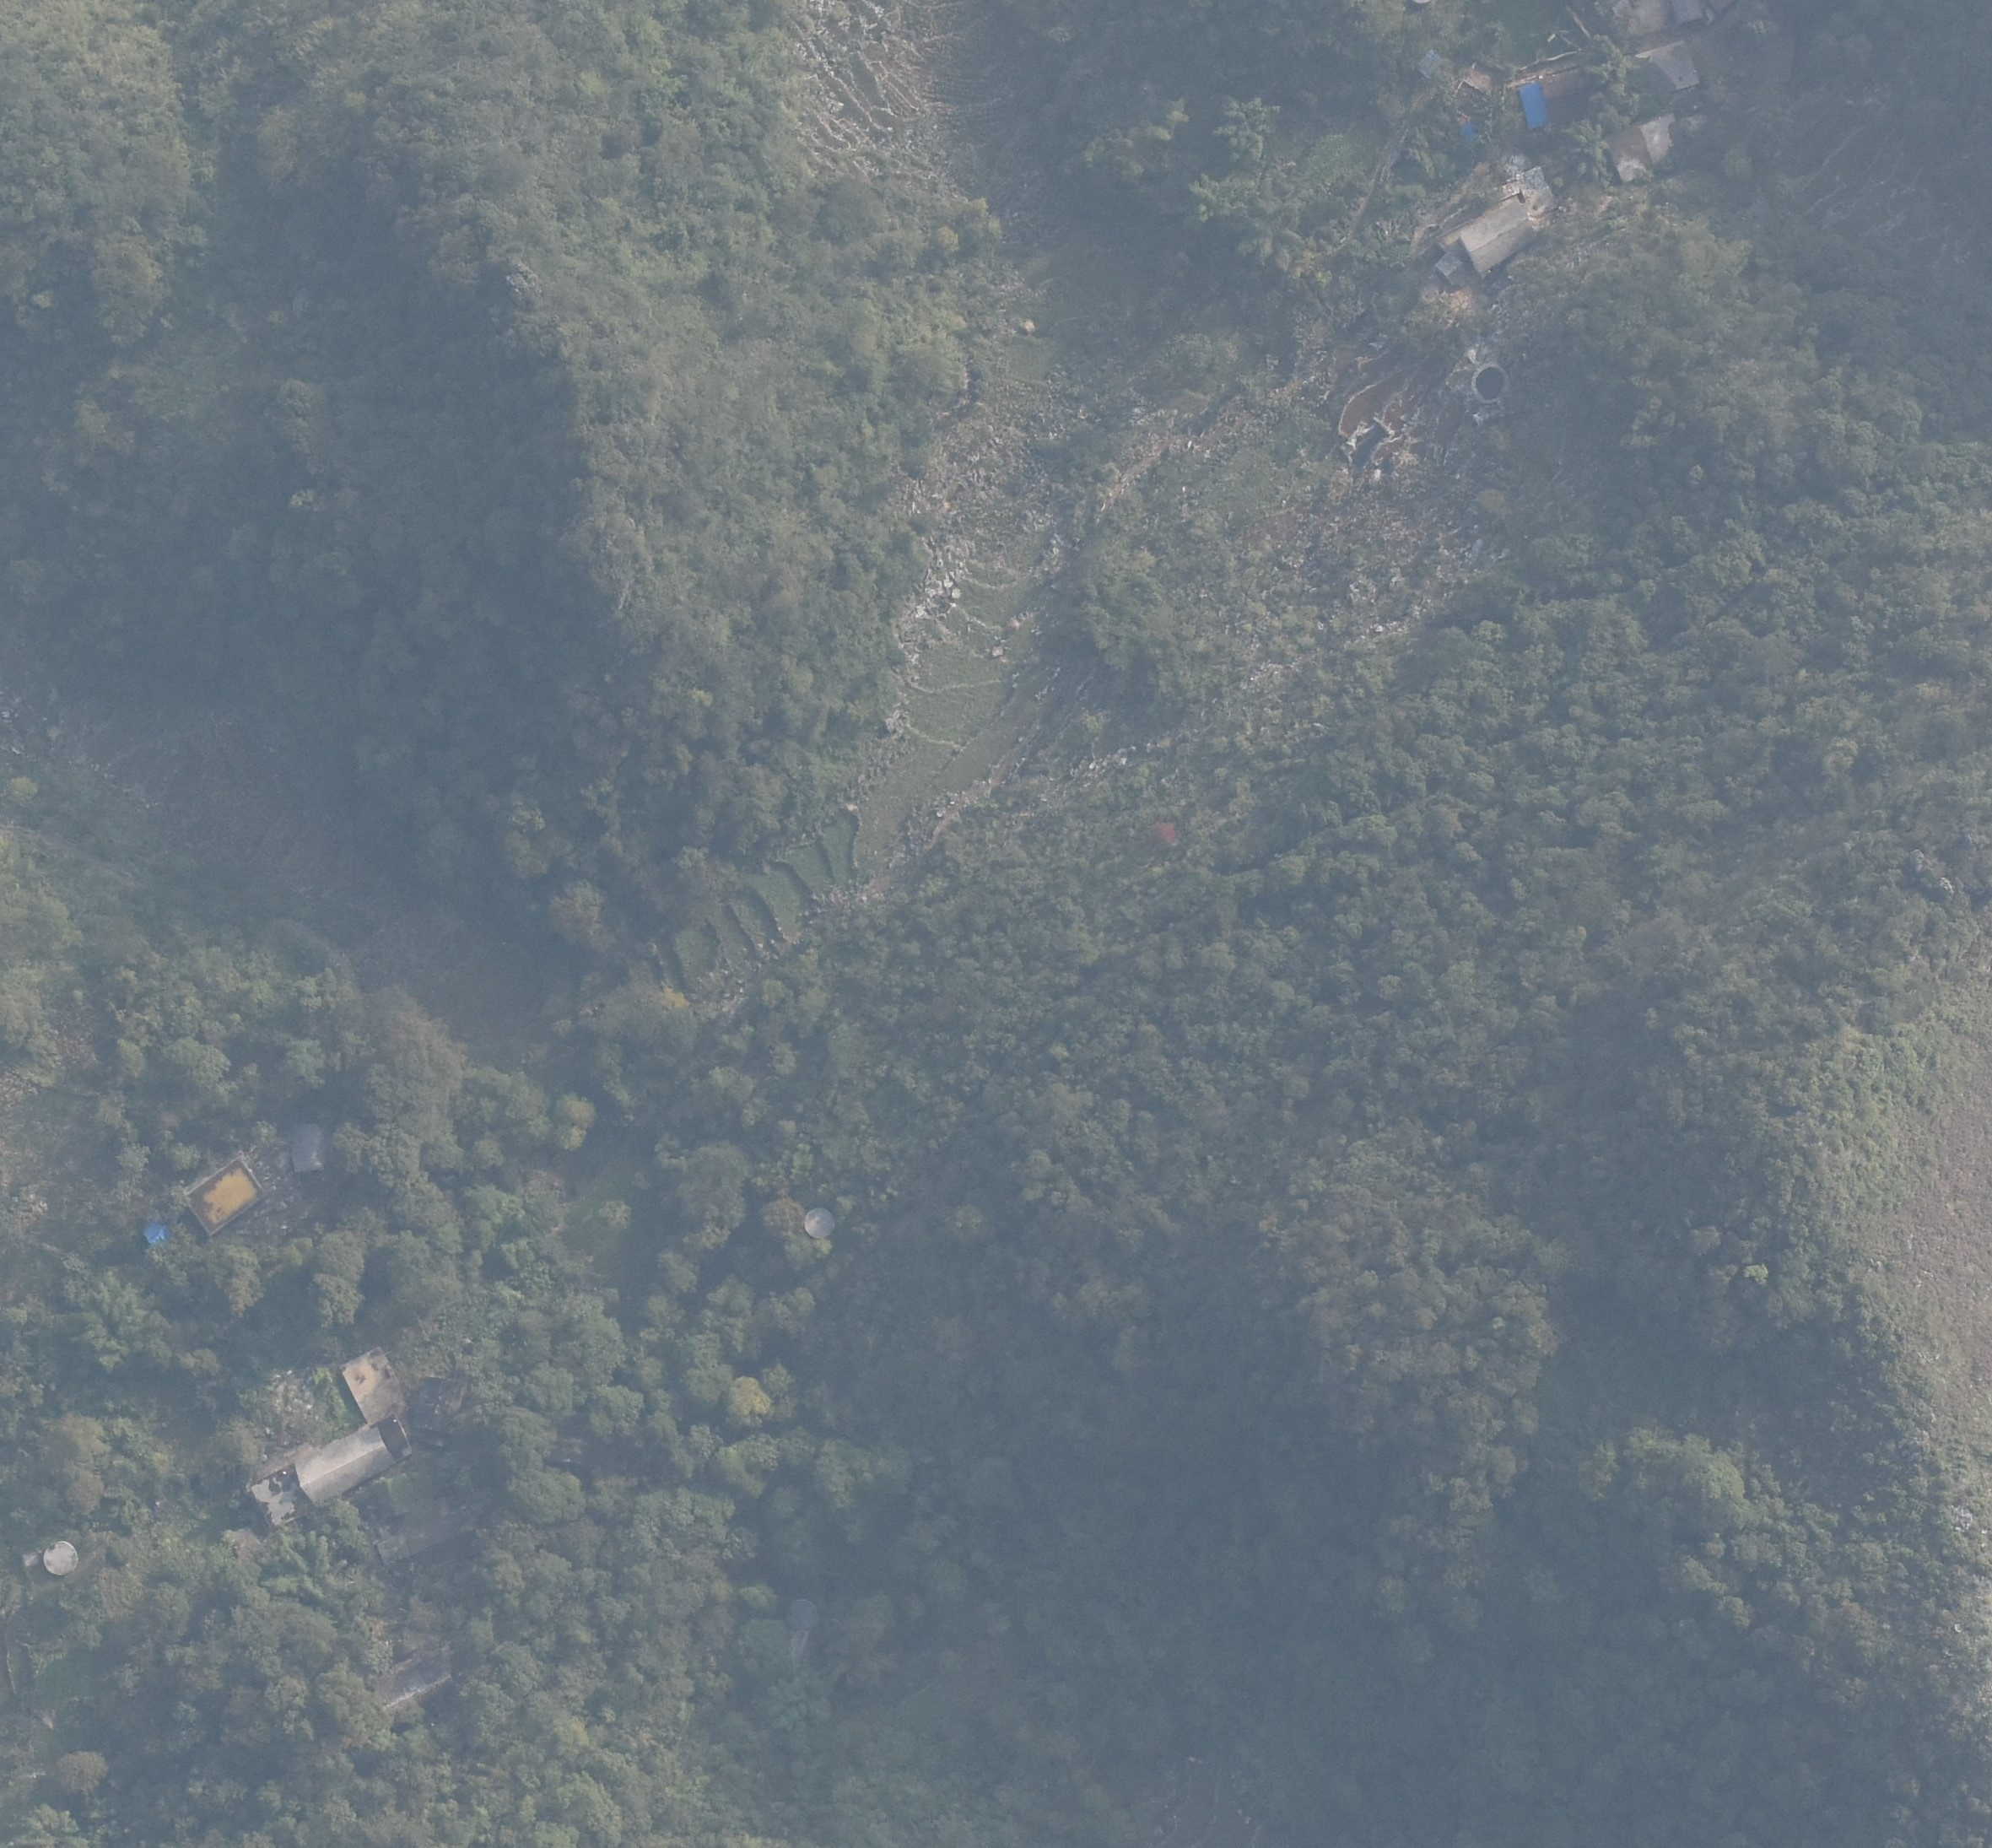building: (285, 1427, 402, 1507), (178, 1157, 271, 1248), (1458, 201, 1542, 275), (342, 1347, 413, 1431), (1611, 41, 1702, 102), (1639, 112, 1691, 181), (1598, 129, 1656, 186), (281, 1117, 333, 1176)
prefabricated-house: (1515, 80, 1550, 135), (141, 1218, 169, 1248)
well: (43, 1536, 80, 1579), (801, 1208, 845, 1243)
